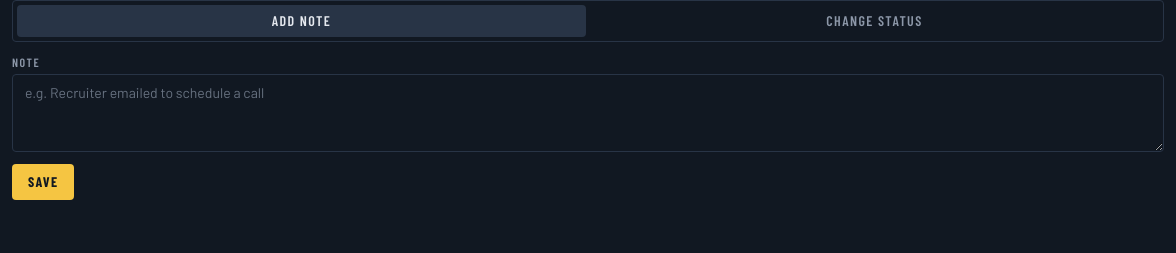
Test: AddEventForm › blocks an empty note
Click the button "Save": x=43, y=182 [12,164,74,200]
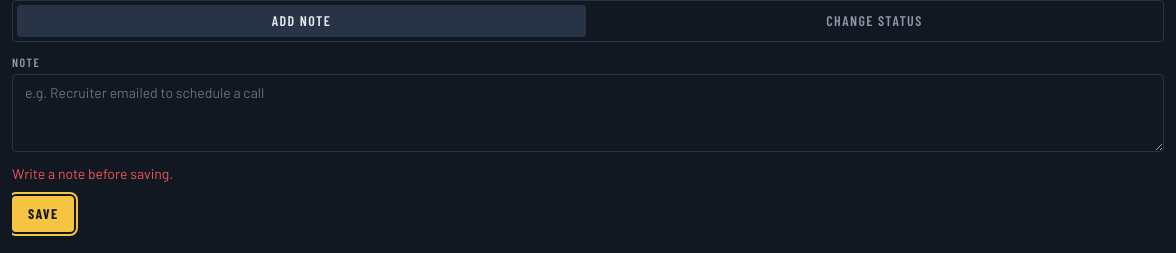
Result: the message reads "Write a note before saving." at [12,165,173,182]
